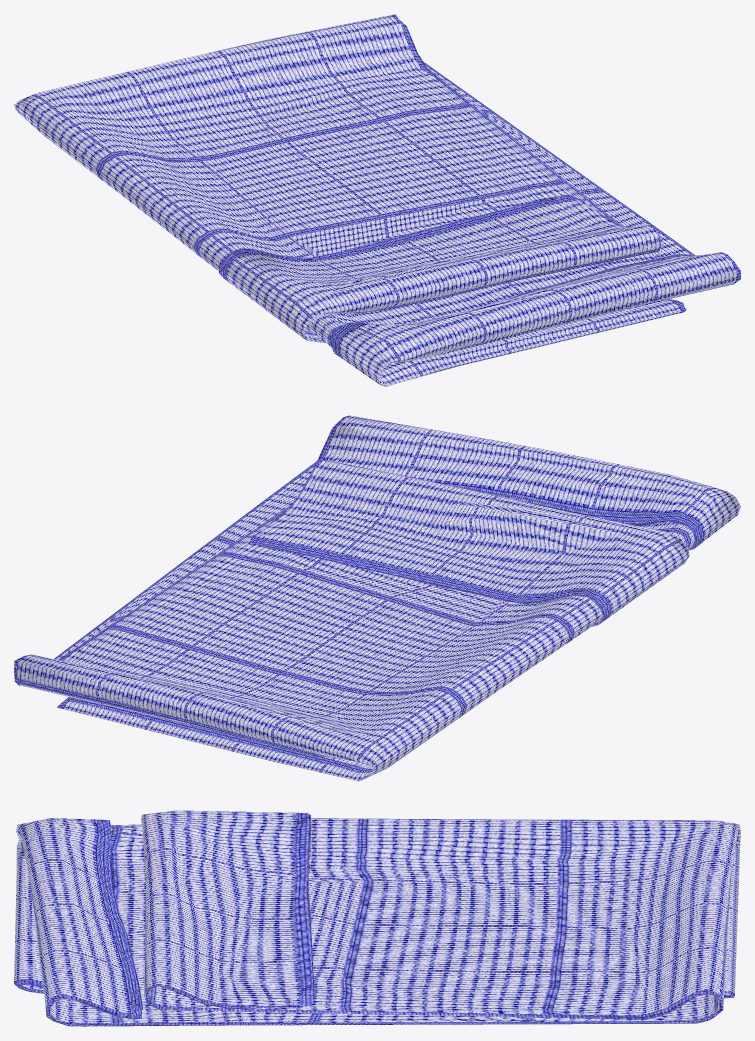
Rendered from towel_folded.glb.
3 views of the same model, one above another, from view 1: azimuth 30°, elevation 25°; view 2: azimuth 150°, elevation 25°; view 3: azimuth 270°, elevation 25° (orthographic).
Visible parts, largest first — view 1: Tower_Material.001_0; view 2: Tower_Material.001_0; view 3: Tower_Material.001_0.
Part boxes in pixels (x1,y1,x2,y2): Tower_Material.001_0: (14, 14, 740, 386); Tower_Material.001_0: (14, 415, 740, 781); Tower_Material.001_0: (14, 810, 740, 1026).
Bounding box in the file's own units: 540 × 53.9 × 879.
1 material, 1 textured.
